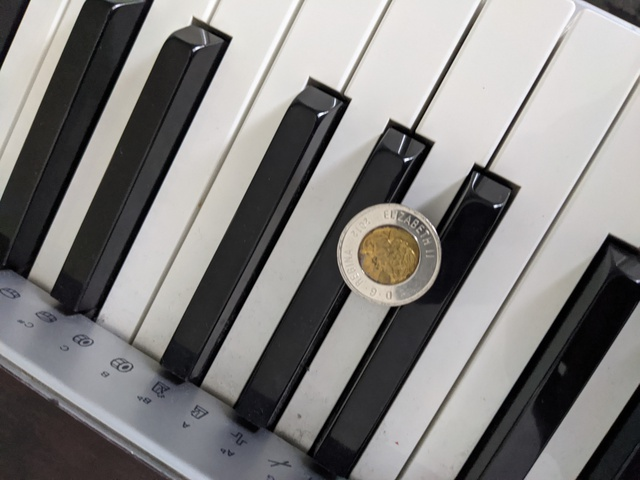twonie: (335, 199, 441, 303)
